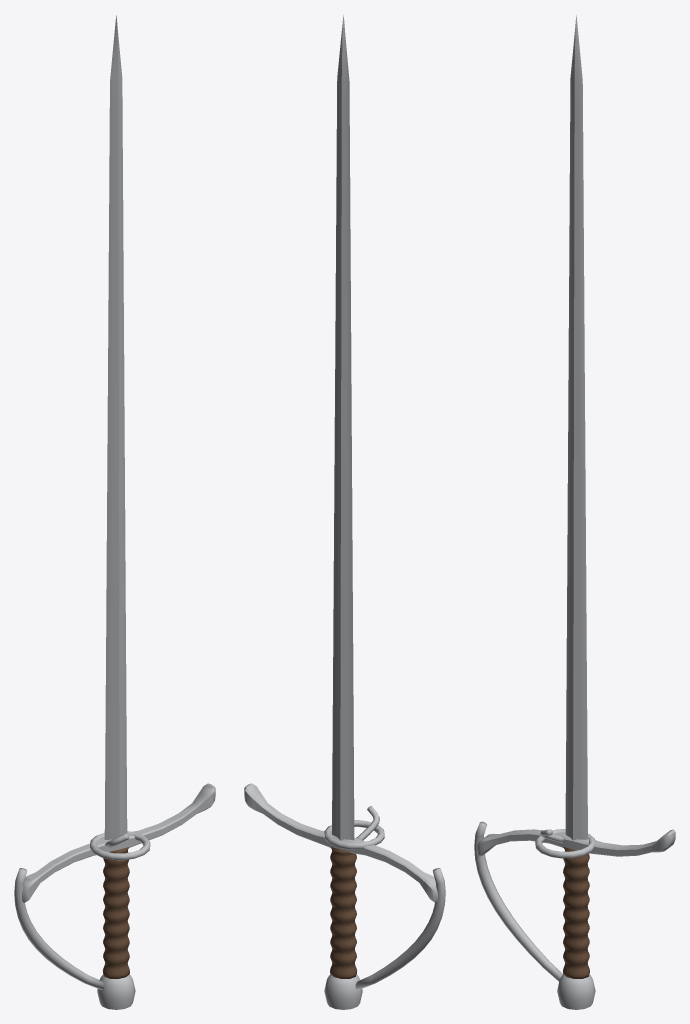
Rendered from rapier.glb.
The picture shows the model from 3 angles, left to right: view 1: azimuth 30°, elevation 25°; view 2: azimuth 150°, elevation 25°; view 3: azimuth 330°, elevation 25°; orthographic projection.
Visible parts, largest first — view 1: rapier; view 2: rapier; view 3: rapier.
Part boxes in pixels (left/top/right/bottom): rapier: left=14, top=15, right=215, bottom=1009; rapier: left=244, top=15, right=445, bottom=1009; rapier: left=474, top=15, right=675, bottom=1009.
Size of the model in its own units: 0.5504 by 2.62 by 0.1538.
